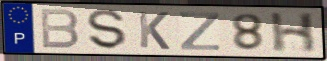8: (229, 12, 266, 52)
B: (38, 8, 81, 50)
H: (268, 12, 317, 54)
K: (136, 10, 172, 52)
S: (85, 8, 129, 51)
Z: (178, 10, 222, 52)
